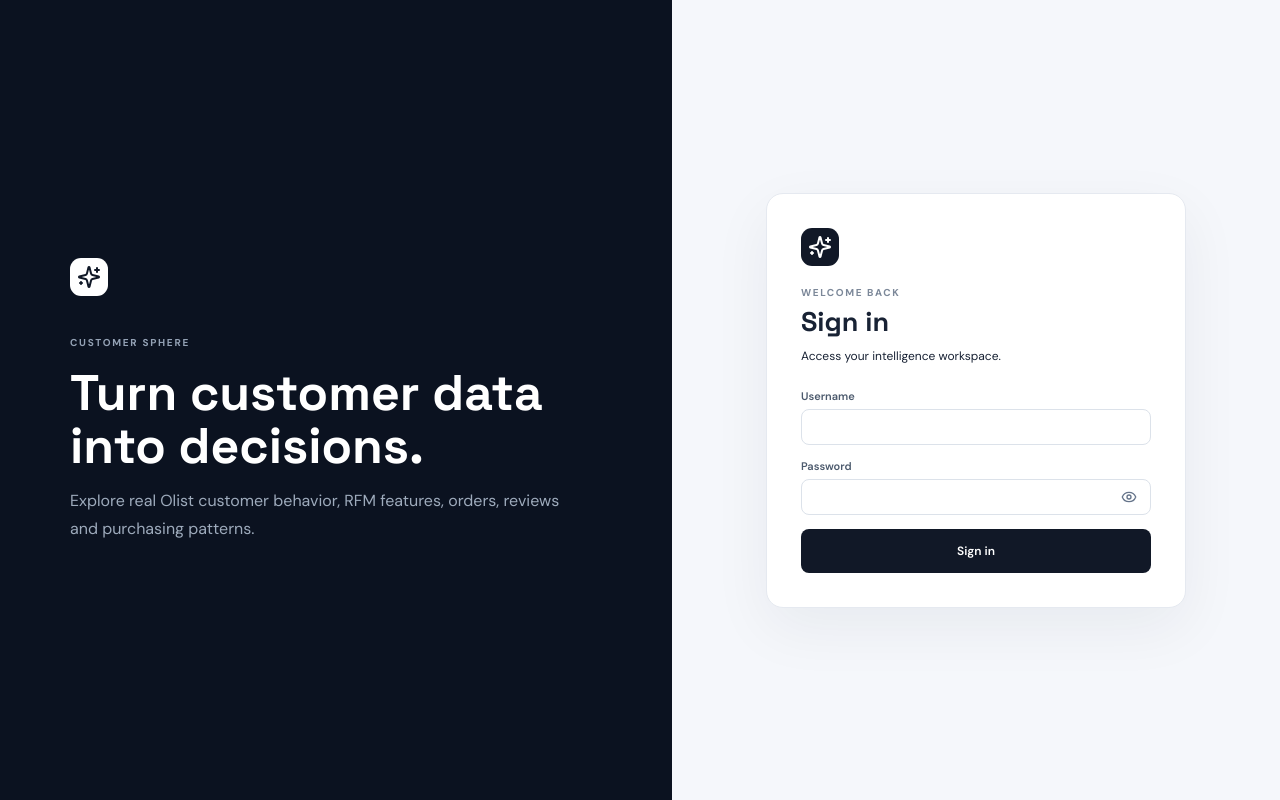
Test: Login Page Component › shows error when password is shorter than 6 characters
In the field labelled "Username": (976,426) [801,408,1151,444], type "admin"
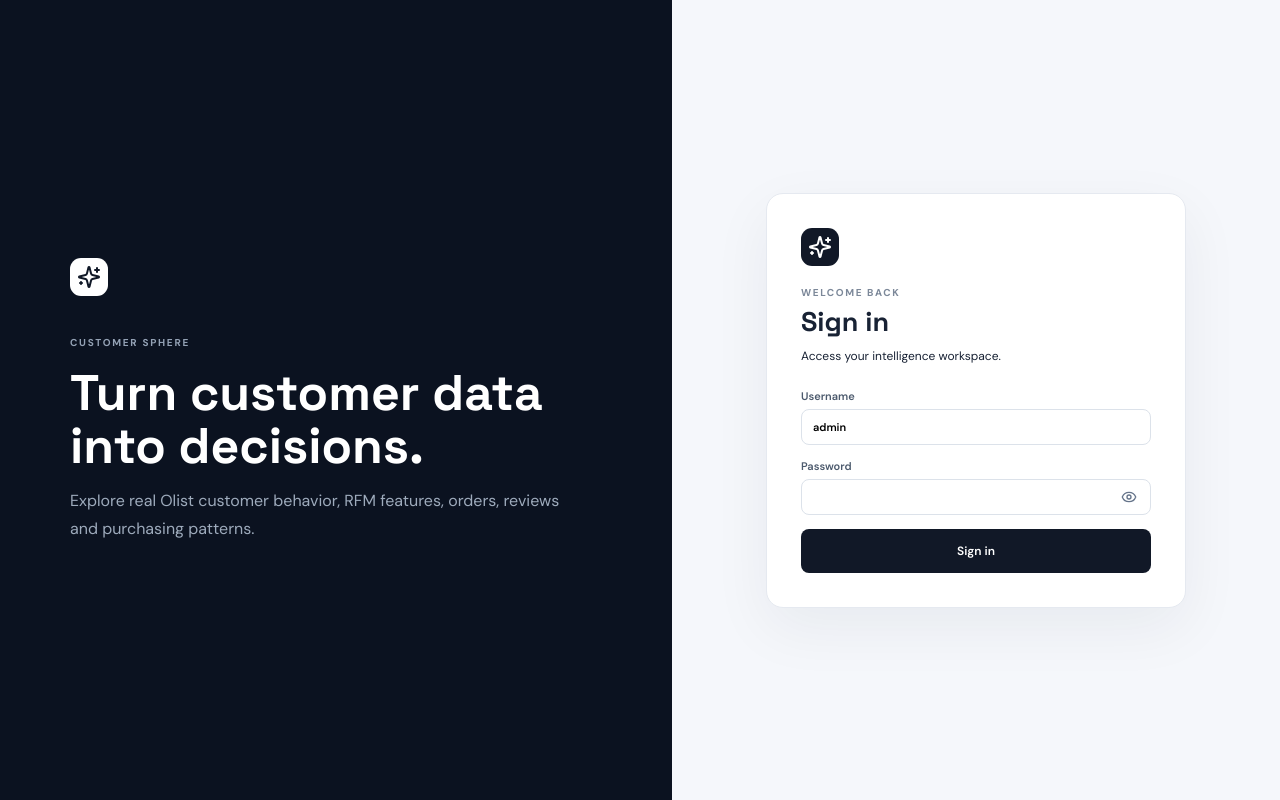
In the password field labelled "Password": (976,496) [801,478,1151,514], type "123"
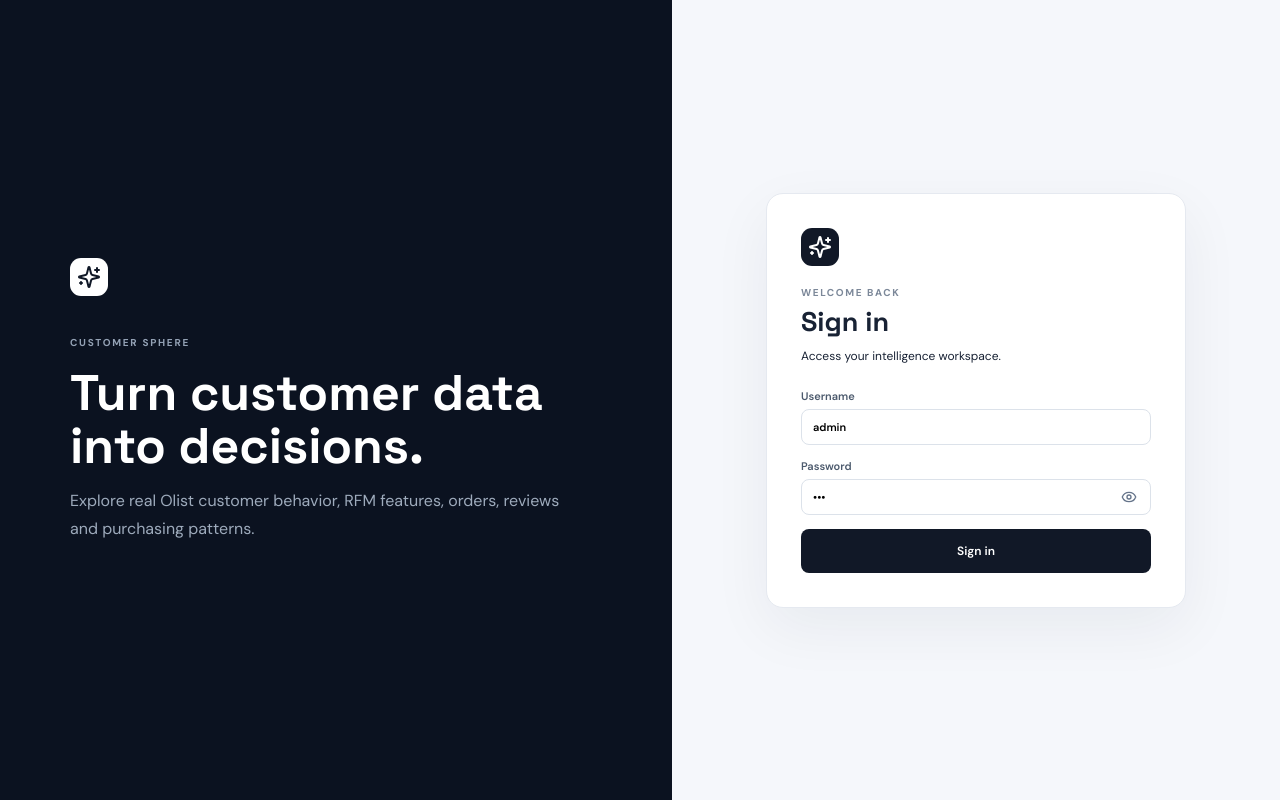
Click the button "Sign in": (976,550) [801,528,1151,572]
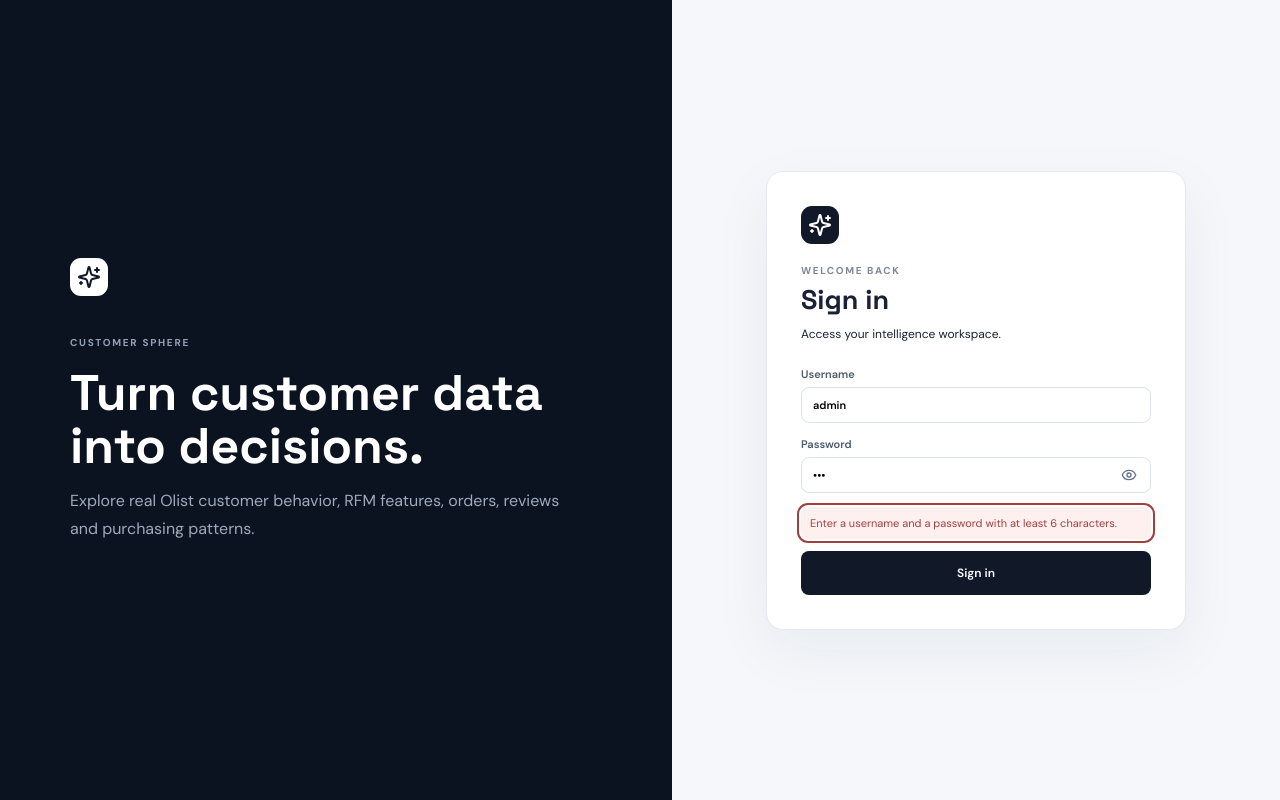
expect the text "Enter a username and a password with at least 6 characters." is shown: met, box [801,506,1151,538]
